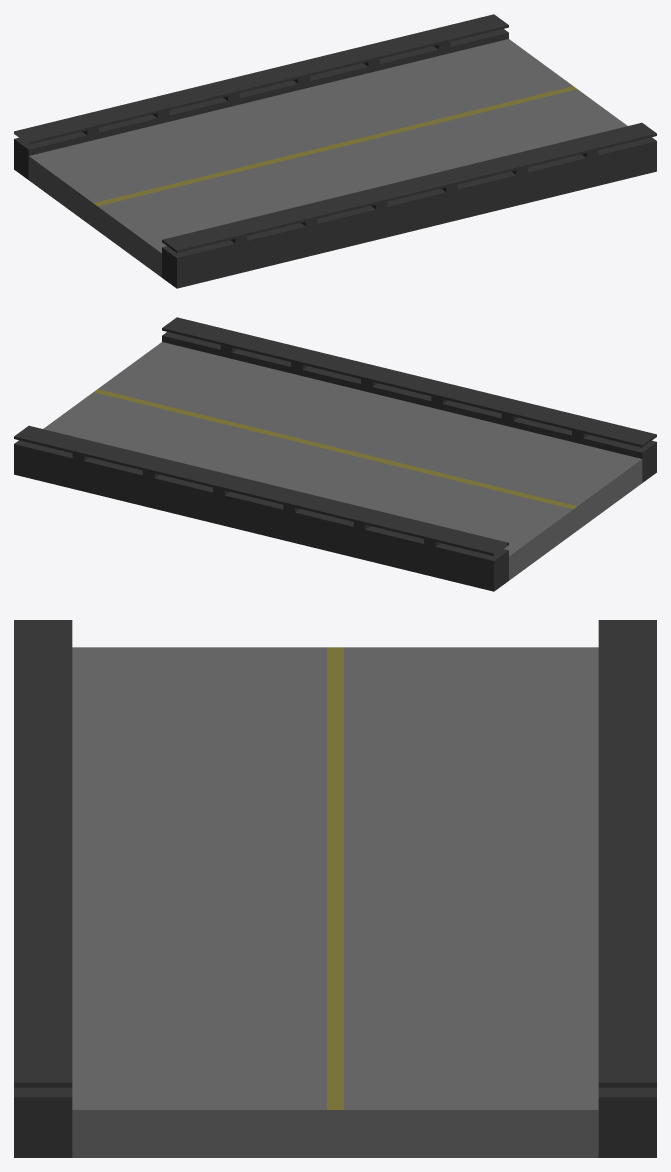
The model's file is road.fbx.
3 views of the same model, one above another, from view 1: azimuth 30°, elevation 25°; view 2: azimuth 150°, elevation 25°; view 3: azimuth 270°, elevation 25° (orthographic). The views are drawn at different scales.
Visible parts, largest first — view 1: 立方体; view 2: 立方体; view 3: 立方体.
Boxes of the visible parts, box(x1,y1,x2,y2) form: 立方体: box(14, 14, 656, 288); 立方体: box(14, 317, 656, 591); 立方体: box(14, 620, 656, 1157).
Size of the model in its own units: 200 by 15.17 by 118.
